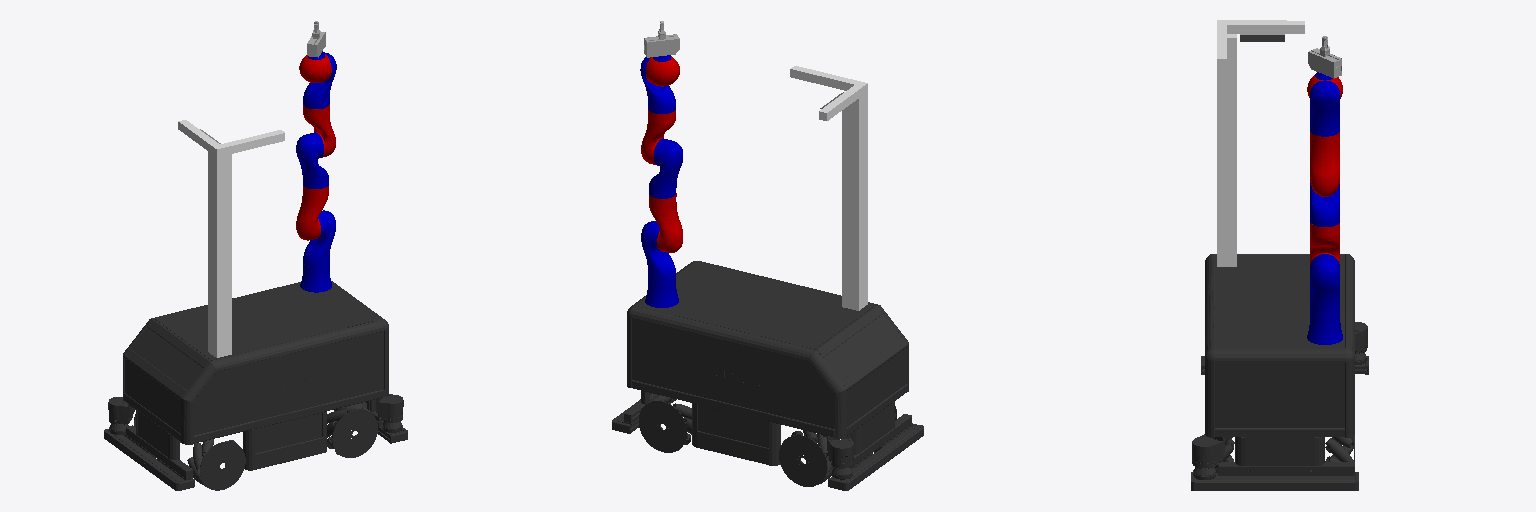
robot.urdf — omnirob:
<?xml version="1.0" ?>
<!-- =================================================================================== -->
<!-- |    This document was autogenerated by xacro from omnirob_lbr_wsg.xacro          | -->
<!-- |    EDITING THIS FILE BY HAND IS NOT RECOMMENDED                                 | -->
<!-- =================================================================================== -->
<robot name="omnirob" xmlns:controller="http://playerstage.sourceforge.net/gazebo/xmlschema/#controller" xmlns:interface="http://playerstage.sourceforge.net/gazebo/xmlschema/#interface" xmlns:sensor="http://playerstage.sourceforge.net/gazebo/xmlschema/#sensor" xmlns:xacro="http://ros.org/wiki/xacro">
  <!-- Import all Gazebo-customization elements, including Gazebo colors -->
  <!-- ros_control plugin -->
  <gazebo>
    <plugin filename="libgazebo_ros_control.so" name="gazebo_ros_control">
      <robotNamespace>/lbr</robotNamespace>
      <robotSimType>gazebo_ros_control/DefaultRobotHWSim</robotSimType>
    </plugin>
  </gazebo>
  <!-- Link0 -->
  <gazebo reference="lbr_0_link">
    <material>Gazebo/Blue</material>
  </gazebo>
  <!-- Link1 -->
  <gazebo reference="lbr_1_link">
    <material>Gazebo/Red</material>
  </gazebo>
  <!-- Link2 -->
  <gazebo reference="lbr_2_link">
    <material>Gazebo/Blue</material>
  </gazebo>
  <!-- Link3 -->
  <gazebo reference="lbr_3_link">
    <material>Gazebo/Red</material>
  </gazebo>
  <!-- Link4 -->
  <gazebo reference="lbr_4_link">
    <material>Gazebo/Blue</material>
  </gazebo>
  <!-- Link5 -->
  <gazebo reference="lbr_5_link">
    <material>Gazebo/Red</material>
  </gazebo>
  <!-- Link6 -->
  <gazebo reference="lbr_6_link">
    <material>Gazebo/Blue</material>
  </gazebo>
  <!-- Link7 -->
  <gazebo reference="lbr_7_link">
    <material>Gazebo/Red</material>
  </gazebo>
  <!-- Import Rviz colors -->
  <material name="Blue">
    <color rgba="0.0 0.0 0.8 1.0"/>
  </material>
  <material name="Green">
    <color rgba="0.0 0.8 0.0 1.0"/>
  </material>
  <material name="Grey">
    <color rgba="0.7 0.7 0.7 1.0"/>
  </material>
  <material name="Grey2">
    <color rgba="0.9 0.9 0.9 1.0"/>
  </material>
  <material name="Red">
    <color rgba="0.8 0.0 0.0 1.0"/>
  </material>
  <material name="orange">
    <color rgba="1.0 0.423529411765 0.0392156862745 1.0"/>
  </material>
  <material name="brown">
    <color rgba="0.870588235294 0.811764705882 0.764705882353 1.0"/>
  </material>
  <material name="White">
    <color rgba="1.0 1.0 1.0 1.0"/>
  </material>
  <material name="Black">
    <color rgba="0.0 0.0 0.0 1.0"/>
  </material>
  <material name="pole_gray">
    <color rgba="0.9 0.9 0.9 1.0"/>
  </material>
  <material name="asus_xtion_gray">
    <color rgba="0.6 0.6 0.6 1.0"/>
  </material>
  <material name="Gray">
    <color rgba="0.25 0.25 0.25 1.0"/>
  </material>
  <link name="base_link">
    <visual>
      <origin rpy="0 0 0" xyz="0 0 0"/>
      <geometry>
        <mesh filename="package://omnirob_description/meshes/omnirob_hull.stl" scale="0.001 0.001 0.001"/>
      </geometry>
      <material name="Gray"/>
    </visual>
    <collision>
      <origin rpy="0 0 0" xyz="0 0 0"/>
      <geometry>
        <mesh filename="package://omnirob_description/meshes/omnirob_hull_low_res.stl" scale="0.001 0.001 0.001"/>
      </geometry>
    </collision>
  </link>
  <link name="laser_front_link">
        </link>
  <link name="laser_rear_link">
        </link>
  <joint name="laser_front_joint" type="fixed">
    <parent link="base_link"/>
    <child link="laser_front_link"/>
    <origin rpy="0 0 -0.78893" xyz="0.542477 -0.317722 0.13664"/>
  </joint>
  <joint name="laser_rear_joint" type="fixed">
    <parent link="base_link"/>
    <child link="laser_rear_link"/>
    <origin rpy="0 0 2.31624" xyz="-0.534443 0.32895 0.13664"/>
  </joint>
  <!-- Used for fixing robot to Gazebo 'base_link' -->
  <!--<link name="world"/>
		
		<joint name="fixed" type="fixed">
		  <parent link="world"/>
		  <child link="${name}_0_link"/>
		</joint>-->
  <link name="lbr_0_link">
    <inertial>
      <origin rpy="0 0 0" xyz="0 0 0"/>
      <mass value="1.0"/>
      <inertia ixx="0.01" ixy="0" ixz="0" iyy="0.01" iyz="0" izz="0.01"/>
    </inertial>
    <visual>
      <origin rpy="0 0 0" xyz="0 0 0"/>
      <geometry>
        <mesh filename="package://omnirob_description/meshes/lbr0.stl"/>
      </geometry>
      <material name="Blue"/>
    </visual>
    <collision>
      <origin rpy="0 0 0" xyz="0 0 0"/>
      <geometry>
        <mesh filename="package://omnirob_description/meshes/lbr0_low_res.stl"/>
      </geometry>
    </collision>
  </link>
  <!-- joint between arm_0_link and arm_1_link -->
  <joint name="lbr_1_joint" type="revolute">
    <!--<origin xyz="0 0 0.14" rpy="0 0 -2.8407"/> -->
    <origin rpy="0 0 0" xyz="0 0 0.1105"/>
    <parent link="lbr_0_link"/>
    <child link="lbr_1_link"/>
    <axis xyz="0 0 1"/>
    <dynamics damping="25"/>
    <limit effort="200" lower="-2.9670" upper="2.9670" velocity="1.9634"/>
  </joint>
  <link name="lbr_1_link">
    <inertial>
      <origin rpy="0 0 0" xyz="0 0 0"/>
      <mass value="5.9907"/>
      <inertia ixx="0.01" ixy="0" ixz="0" iyy="0.01" iyz="0" izz="0.01"/>
    </inertial>
    <visual>
      <origin rpy="0 0 0" xyz="0 0 0"/>
      <geometry>
        <mesh filename="package://omnirob_description/meshes/lbr1.stl"/>
      </geometry>
      <material name="Blue"/>
    </visual>
    <collision>
      <origin rpy="0 0 0" xyz="0 0 0"/>
      <geometry>
        <mesh filename="package://omnirob_description/meshes/lbr1_low_res.stl"/>
      </geometry>
    </collision>
  </link>
  <!-- joint between arm_1_link and arm_2_link -->
  <joint name="lbr_2_joint" type="revolute">
    <origin rpy="1.5708 0 0" xyz="0 0 0.1915"/>
    <parent link="lbr_1_link"/>
    <child link="lbr_2_link"/>
    <axis xyz="0 0 1"/>
    <dynamics damping="25"/>
    <limit effort="200" lower="-2.0943" upper="2.0943" velocity="1.9634"/>
  </joint>
  <link name="lbr_2_link">
    <inertial>
      <origin rpy="0 0 0" xyz="0 0 0.002"/>
      <mass value="5.734939"/>
      <inertia ixx="0.03" ixy="0" ixz="0" iyy="0.03" iyz="0" izz="0.03"/>
    </inertial>
    <visual>
      <origin rpy="0 0 0" xyz="0 0 0.002"/>
      <geometry>
        <mesh filename="package://omnirob_description/meshes/lbr2.stl"/>
      </geometry>
      <material name="Red"/>
    </visual>
    <collision>
      <origin rpy="0 0 0" xyz="0 0 0.002"/>
      <geometry>
        <mesh filename="package://omnirob_description/meshes/lbr2_low_res.stl"/>
      </geometry>
    </collision>
  </link>
  <!-- joint between arm_2_link and arm_3_link -->
  <joint name="lbr_3_joint" type="revolute">
    <origin rpy="-1.5708 0 0" xyz="0 0.2085 0"/>
    <parent link="lbr_2_link"/>
    <child link="lbr_3_link"/>
    <axis xyz="0 0 1"/>
    <dynamics damping="25"/>
    <limit effort="100" lower="-2.9670" upper="2.9670" velocity="1.9634"/>
  </joint>
  <link name="lbr_3_link">
    <inertial>
      <origin rpy="0 0 0" xyz="0 -0.002 0"/>
      <mass value="4.214668"/>
      <inertia ixx="0.03" ixy="0" ixz="0" iyy="0.03" iyz="0" izz="0.03"/>
    </inertial>
    <visual>
      <origin rpy="0 0 0" xyz="0 -0.002 0"/>
      <geometry>
        <mesh filename="package://omnirob_description/meshes/lbr3.stl"/>
      </geometry>
      <material name="Blue"/>
    </visual>
    <collision>
      <origin rpy="0 0 0" xyz="0 -0.002 0"/>
      <geometry>
        <mesh filename="package://omnirob_description/meshes/lbr3_low_res.stl"/>
      </geometry>
    </collision>
  </link>
  <!-- joint between arm_3_link and arm_4_link -->
  <joint name="lbr_4_joint" type="revolute">
    <origin rpy="-1.5708 0 0" xyz="0 0 0.1915"/>
    <parent link="lbr_3_link"/>
    <child link="lbr_4_link"/>
    <axis xyz="0 0 1"/>
    <dynamics damping="25"/>
    <limit effort="100" lower="-2.0943" upper="2.0943" velocity="1.9634"/>
  </joint>
  <link name="lbr_4_link">
    <inertial>
      <origin rpy="0 0 0" xyz="0 0 0"/>
      <mass value="3.669819"/>
      <inertia ixx="0.03" ixy="0" ixz="0" iyy="0.03" iyz="0" izz="0.03"/>
    </inertial>
    <visual>
      <origin rpy="0 0 0" xyz="0 0 0"/>
      <geometry>
        <mesh filename="package://omnirob_description/meshes/lbr4.stl"/>
      </geometry>
      <material name="Red"/>
    </visual>
    <collision>
      <origin rpy="0 0 0" xyz="0 0 0"/>
      <geometry>
        <mesh filename="package://omnirob_description/meshes/lbr4_low_res.stl"/>
      </geometry>
    </collision>
  </link>
  <!-- joint between arm_4_link and arm_5_link -->
  <joint name="lbr_5_joint" type="revolute">
    <origin rpy="1.5708 0 0" xyz="0 -0.2085 0"/>
    <parent link="lbr_4_link"/>
    <child link="lbr_5_link"/>
    <axis xyz="0 0 1"/>
    <dynamics damping="25"/>
    <limit effort="100" lower="-2.9670" upper="2.9670" velocity="3.1415926"/>
  </joint>
  <link name="lbr_5_link">
    <inertial>
      <origin rpy="0 0 0" xyz="0 0 0"/>
      <mass value="2.313272"/>
      <inertia ixx="0.03" ixy="0" ixz="0" iyy="0.03" iyz="0" izz="0.03"/>
    </inertial>
    <visual>
      <origin rpy="0 0 0" xyz="0 0 0"/>
      <geometry>
        <mesh filename="package://omnirob_description/meshes/lbr5.stl"/>
      </geometry>
      <material name="Blue"/>
    </visual>
    <collision>
      <origin rpy="0 0 0" xyz="0 0 0"/>
      <geometry>
        <mesh filename="package://omnirob_description/meshes/lbr5_low_res.stl"/>
      </geometry>
    </collision>
  </link>
  <!-- joint between arm_5_link and arm_6_link -->
  <joint name="lbr_6_joint" type="revolute">
    <origin rpy="1.5708 0 0" xyz="0 0 0.1815"/>
    <parent link="lbr_5_link"/>
    <child link="lbr_6_link"/>
    <axis xyz="0 0 1"/>
    <dynamics damping="25"/>
    <limit effort="30" lower="-2.0943951" upper="2.0943951" velocity="1.9634"/>
  </joint>
  <link name="lbr_6_link">
    <inertial>
      <origin rpy="0 0 0" xyz="0 0 0"/>
      <mass value="2.057856"/>
      <inertia ixx="0.01" ixy="0" ixz="0" iyy="0.01" iyz="0" izz="0.01"/>
    </inertial>
    <visual>
      <origin rpy="0 0 0" xyz="0 0 -0.046"/>
      <geometry>
        <mesh filename="package://omnirob_description/meshes/lbr6.stl"/>
      </geometry>
      <material name="Red"/>
    </visual>
    <collision>
      <origin rpy="0 0 0" xyz="0 0 -0.046"/>
      <geometry>
        <mesh filename="package://omnirob_description/meshes/lbr6_low_res.stl"/>
      </geometry>
    </collision>
  </link>
  <!-- joint between arm_6_link and arm_7_link -->
  <joint name="lbr_7_joint" type="revolute">
    <origin rpy="-1.5708 0 0" xyz="0 0.057 0"/>
    <parent link="lbr_6_link"/>
    <child link="lbr_7_link"/>
    <axis xyz="0 0 1"/>
    <dynamics damping="25"/>
    <limit effort="30" lower="-2.9670" upper="2.9670" velocity="1.9634"/>
  </joint>
  <link name="lbr_7_link">
    <inertial>
      <origin rpy="0 0 0" xyz="0 0 0"/>
      <mass value="1.120198"/>
      <inertia ixx="0.01" ixy="0" ixz="0" iyy="0.01" iyz="0" izz="0.01"/>
    </inertial>
    <visual>
      <origin rpy="0 0 0" xyz="0 0 0"/>
      <geometry>
        <mesh filename="package://omnirob_description/meshes/lbr7.stl"/>
      </geometry>
      <material name="Blue"/>
    </visual>
    <collision>
      <origin rpy="0 0 0" xyz="0 0 0"/>
      <geometry>
        <mesh filename="package://omnirob_description/meshes/lbr7_low_res.stl"/>
      </geometry>
    </collision>
  </link>
  <joint name="flange" type="fixed">
    <parent link="lbr_7_link"/>
    <child link="lbr_flange_link"/>
    <origin rpy="0 0 0" xyz="0 0 0.0195"/>
  </joint>
  <link name="lbr_flange_link">
		</link>
  <transmission name="lbr_1_joint_trans">
    <type>pr2_mechanism_model/SimpleTransmission</type>
    <joint name="lbr_1_joint">
      <hardwareInterface>EffortJointInterface</hardwareInterface>
    </joint>
    <actuator name="lbr_1_joint_motor">
      <hardwareInterface>EffortJointInterface</hardwareInterface>
      <mechanicalReduction>1</mechanicalReduction>
    </actuator>
  </transmission>
  <transmission name="lbr_2_joint_trans">
    <type>pr2_mechanism_model/SimpleTransmission</type>
    <joint name="lbr_2_joint">
      <hardwareInterface>EffortJointInterface</hardwareInterface>
    </joint>
    <actuator name="lbr_2_joint_motor">
      <hardwareInterface>EffortJointInterface</hardwareInterface>
      <mechanicalReduction>1</mechanicalReduction>
    </actuator>
  </transmission>
  <transmission name="lbr_3_joint_trans">
    <type>pr2_mechanism_model/SimpleTransmission</type>
    <joint name="lbr_3_joint">
      <hardwareInterface>EffortJointInterface</hardwareInterface>
    </joint>
    <actuator name="lbr_3_joint_motor">
      <hardwareInterface>EffortJointInterface</hardwareInterface>
      <mechanicalReduction>1</mechanicalReduction>
    </actuator>
  </transmission>
  <transmission name="lbr_4_joint_trans">
    <type>pr2_mechanism_model/SimpleTransmission</type>
    <joint name="lbr_4_joint">
      <hardwareInterface>EffortJointInterface</hardwareInterface>
    </joint>
    <actuator name="lbr_4_joint_motor">
      <hardwareInterface>EffortJointInterface</hardwareInterface>
      <mechanicalReduction>1</mechanicalReduction>
    </actuator>
  </transmission>
  <transmission name="lbr_5_joint_trans">
    <type>pr2_mechanism_model/SimpleTransmission</type>
    <actuator name="lbr_5_joint_motor">
      <hardwareInterface>EffortJointInterface</hardwareInterface>
      <mechanicalReduction>1</mechanicalReduction>
    </actuator>
    <joint name="lbr_5_joint">
      <hardwareInterface>EffortJointInterface</hardwareInterface>
    </joint>
  </transmission>
  <transmission name="lbr_6_joint_trans">
    <type>pr2_mechanism_model/SimpleTransmission</type>
    <actuator name="lbr_6_joint_motor">
      <hardwareInterface>EffortJointInterface</hardwareInterface>
      <mechanicalReduction>1</mechanicalReduction>
    </actuator>
    <joint name="lbr_6_joint">
      <hardwareInterface>EffortJointInterface</hardwareInterface>
    </joint>
  </transmission>
  <transmission name="lbr_7_joint_trans">
    <type>pr2_mechanism_model/SimpleTransmission</type>
    <actuator name="lbr_7_joint_motor">
      <hardwareInterface>EffortJointInterface</hardwareInterface>
      <mechanicalReduction>1</mechanicalReduction>
    </actuator>
    <joint name="lbr_7_joint">
      <hardwareInterface>EffortJointInterface</hardwareInterface>
    </joint>
  </transmission>
  <joint name="omnirob_base_joint" type="fixed">
    <origin rpy="0 0 -1.5708" xyz="0.42 0.18 0.655"/>
    <parent link="base_link"/>
    <child link="lbr_0_link"/>
  </joint>
  <joint name="pole_base_joint" type="fixed">
    <origin rpy="0 0 0" xyz="-0.35 -0.25 0.64"/>
    <parent link="base_link"/>
    <child link="pole_base_link"/>
  </joint>
  <link name="pole_base_link">
    <visual>
      <geometry>
        <box size="0.08 0.08 1.01"/>
      </geometry>
      <origin xyz="0.04 0.04 0.505"/>
      <material name="pole_gray"/>
    </visual>
    <collision>
      <geometry>
        <box size="0.08 0.08 1.01"/>
      </geometry>
      <origin xyz="0.04 0.04 0.505"/>
    </collision>
  </link>
  <joint name="pole_top_joint" type="fixed">
    <parent link="pole_base_link"/>
    <child link="pole_top_link"/>
    <origin rpy="0 0 0" xyz="0 0 1.01"/>
  </joint>
  <!-- to front -->
  <link name="pole_top_link">
    <visual>
      <geometry>
        <box size="0.36 0.04 0.04"/>
      </geometry>
      <origin xyz="0.18 0.02 0.02"/>
      <material name="pole_gray"/>
    </visual>
    <collision>
      <geometry>
        <box size="0.36 0.04 0.04"/>
      </geometry>
      <origin xyz="0.18 0.02 0.02"/>
    </collision>
  </link>
  <joint name="pole_top2_joint" type="fixed">
    <parent link="pole_base_link"/>
    <child link="pole_top2_link"/>
    <origin rpy="0 0 1.57" xyz="0.04 0.04 1.01"/>
  </joint>
  <!-- to left -->
  <link name="pole_top2_link">
    <visual>
      <geometry>
        <box size="0.31 0.04 0.04"/>
      </geometry>
      <origin xyz="0.155 0.02 0.02"/>
      <material name="pole_gray"/>
    </visual>
    <collision>
      <geometry>
        <box size="0.31 0.04 0.04"/>
      </geometry>
      <origin xyz="0.155 0.02 0.02"/>
    </collision>
  </link>
  <joint name="pole_camera_base_joint" type="fixed">
    <parent link="pole_top2_link"/>
    <child link="pole_camera_link"/>
    <origin rpy="0 0.5 -1.57" xyz="0.14 -0.01 0"/>
  </joint>
  <link name="pole_camera_depth_frame"/>
  <link name="pole_camera_rgb_frame"/>
  <link name="pole_camera_depth_optical_frame"/>
  <link name="pole_camera_rgb_optical_frame"/>
  <link name="pole_camera_link">
    <visual>
      <geometry>
        <box size="0.04 0.18 0.048"/>
      </geometry>
      <origin xyz="0 0 0"/>
      <material name="asus_xtion_gray"/>
    </visual>
    <collision>
      <geometry>
        <box size="0.04 0.18 0.048"/>
      </geometry>
      <origin xyz="0 0 0"/>
    </collision>
  </link>
  <joint name="pole_camera_joint1" type="fixed">
    <parent link="pole_camera_link"/>
    <child link="pole_camera_depth_frame"/>
    <origin rpy="0 0 0" xyz="0 0.049 0.013"/>
  </joint>
  <joint name="pole_camera_joint2" type="fixed">
    <parent link="pole_camera_link"/>
    <child link="pole_camera_rgb_frame"/>
    <origin rpy="0 0 0" xyz="0 0.022 0.013"/>
  </joint>
  <joint name="pole_camera_joint3" type="fixed">
    <parent link="pole_camera_depth_frame"/>
    <child link="pole_camera_depth_optical_frame"/>
    <origin rpy="-1.57 0 -1.57" xyz="0 0 0"/>
  </joint>
  <joint name="pole_camera_joint4" type="fixed">
    <parent link="pole_camera_rgb_frame"/>
    <child link="pole_camera_rgb_optical_frame"/>
    <origin rpy="-1.57 0 -1.57" xyz="0 0 0"/>
  </joint>
  <material name="lightGrey">
    <color rgba="0.7 0.7 0.7 1.0"/>
  </material>
  <link name="wsg_gripper_tip_frame">
		</link>
  <link name="wsg_gripper_l_tip_frame">
    <visual>
      <geometry>
        <mesh filename="package://wsg_description/meshes/grip_low_res.stl"/>
      </geometry>
      <material name="lightGrey"/>
      <origin rpy="-1.57 0 -1.57" xyz="0 -0.0185 -0.040"/>
    </visual>
    <collision>
      <origin rpy="-1.57 0 -1.57" xyz="0 -0.0185 -0.040"/>
      <geometry>
        <mesh filename="package://wsg_description/meshes/grip_low_res.stl"/>
      </geometry>
    </collision>
  </link>
  <link name="wsg_gripper_r_tip_frame">
    <visual>
      <geometry>
        <mesh filename="package://wsg_description/meshes/grip_low_res.stl"/>
      </geometry>
      <material name="lightGrey"/>
      <origin rpy="-1.57 0 1.57" xyz="0 0.0185 -0.040"/>
    </visual>
    <collision>
      <origin rpy="-1.57 0 1.57" xyz="0 0.0185 -0.040"/>
      <geometry>
        <mesh filename="package://wsg_description/meshes/grip_low_res.stl"/>
      </geometry>
    </collision>
  </link>
  <link name="wsg_palm_frame">
    <visual>
      <geometry>
        <mesh filename="package://wsg_description/meshes/palm_low_res.stl"/>
      </geometry>
      <material name="lightGrey"/>
      <origin xyz="0 0 0.0725"/>
    </visual>
    <collision>
      <geometry>
        <mesh filename="package://wsg_description/meshes/palm_collision.stl"/>
      </geometry>
      <material name="lightGrey"/>
      <origin xyz="0 0 0.0725"/>
    </collision>
  </link>
  <!-- Connection to omnirob -->
  <joint name="wsg_gripper_palm" type="fixed">
    <!--parent link="lbr_flange_link" /-->
    <parent link="lbr_flange_link"/>
    <child link="wsg_palm_frame"/>
    <!--insert_block name="origin"/ -->
    <!--origin xyz="0.0 0.0 0.0725" rpy="0 0 0"/ -->
    <!--origin xyz="0.0 0.005 0.171" rpy="0 0 0" / -->
    <origin rpy="0 0 -0.785398" xyz="0.0 0.0 0.0"/>
  </joint>
  <joint name="wsg_gripper_tip" type="fixed">
    <parent link="wsg_palm_frame"/>
    <child link="wsg_gripper_tip_frame"/>
    <origin rpy="0 0 0" xyz="-0.01 0.0 0.1085"/>
    <!--origin xyz="0.0 0.0 0.0721" rpy="1.57 0 0"/ -->
  </joint>
<joint name="wsg_gripper_l_tip" type="prismatic">
			<parent link="wsg_palm_frame" />
			<child link="wsg_gripper_l_tip_frame" />
			<axis xyz="-1 0 0"/>
			<origin xyz="0 0 0.0725" rpy="0 0 0" />
			<limit lower="0.0" upper="0.07" effort="20" velocity="2.0"/>
			<!--<limit effort="1000.0" lower="0.0" upper="0.09" velocity="0.2"/> -->
		</joint>

		<joint name="wsg_gripper_r_tip" type="prismatic">
			<parent link="wsg_palm_frame" />
			<child link="wsg_gripper_r_tip_frame" />
			<axis xyz="1 0 0"/>
			<origin xyz="0 0 0.0725" rpy="0 0 0" />
			<limit lower="0.0" upper="0.07" effort="20" velocity="2.0"/>
			<!--<limit effort="1000.0" lower="0.0" upper="0.09" velocity="0.2"/> -->
		</joint>

</robot>

--- What the picture shows (computed from the rendered views, not written in the file) ---
Views: 3 orthographic renders of the robot side by side, from view 1: azimuth 30°, elevation 25°; view 2: azimuth 150°, elevation 25°; view 3: azimuth 270°, elevation 25°.
Model omnirob with 24 links and 23 joints (7 revolute, 2 prismatic, 14 fixed), rooted at base_link, posed all joints at 0.
Links seen in each view (by area): view 1: base_link, pole_base_link, lbr_3_link, lbr_2_link, lbr_1_link, pole_top_link, lbr_4_link, lbr_5_link, lbr_0_link, lbr_6_link, pole_top2_link; view 2: base_link, pole_base_link, lbr_3_link, lbr_2_link, lbr_1_link, lbr_4_link, lbr_5_link, pole_top_link, lbr_0_link, lbr_6_link, wsg_palm_frame, pole_top2_link; view 3: base_link, pole_base_link, lbr_1_link, lbr_4_link, lbr_5_link, lbr_3_link, lbr_2_link, lbr_0_link, pole_top2_link, wsg_palm_frame, pole_camera_link.
Boxes of the visible links, bbox=[...] form: base_link: bbox=[104, 281, 407, 490]; pole_base_link: bbox=[208, 152, 231, 357]; lbr_3_link: bbox=[296, 132, 328, 188]; lbr_2_link: bbox=[296, 186, 328, 240]; lbr_1_link: bbox=[303, 210, 335, 268]; pole_top_link: bbox=[212, 130, 284, 156]; lbr_4_link: bbox=[303, 104, 335, 157]; lbr_5_link: bbox=[303, 52, 336, 108]; lbr_0_link: bbox=[300, 262, 331, 292]; lbr_6_link: bbox=[299, 54, 331, 82]; pole_top2_link: bbox=[178, 120, 219, 153]; base_link: bbox=[612, 261, 923, 490]; pole_base_link: bbox=[842, 92, 867, 310]; lbr_3_link: bbox=[649, 138, 682, 198]; lbr_2_link: bbox=[649, 193, 682, 252]; lbr_1_link: bbox=[641, 221, 675, 281]; lbr_4_link: bbox=[641, 110, 675, 164]; lbr_5_link: bbox=[640, 57, 675, 113]; pole_top_link: bbox=[790, 66, 867, 94]; lbr_0_link: bbox=[645, 277, 678, 307]; lbr_6_link: bbox=[646, 56, 679, 86]; wsg_palm_frame: bbox=[644, 34, 679, 57]; pole_top2_link: bbox=[819, 85, 862, 120]; base_link: bbox=[1191, 254, 1368, 490]; pole_base_link: bbox=[1217, 34, 1236, 266]; lbr_1_link: bbox=[1310, 254, 1339, 317]; lbr_4_link: bbox=[1310, 132, 1339, 196]; lbr_5_link: bbox=[1310, 80, 1339, 136]; lbr_3_link: bbox=[1310, 183, 1339, 226]; lbr_2_link: bbox=[1310, 223, 1339, 264]; lbr_0_link: bbox=[1307, 312, 1342, 344]; pole_top2_link: bbox=[1227, 20, 1304, 33]; wsg_palm_frame: bbox=[1308, 48, 1341, 78]; pole_camera_link: bbox=[1240, 27, 1284, 41].
Size in the robot's own frame: 1.2 by 0.712 by 1.98 metres.
12 mesh visuals loaded from 11 distinct referenced files (11 binary STL).
